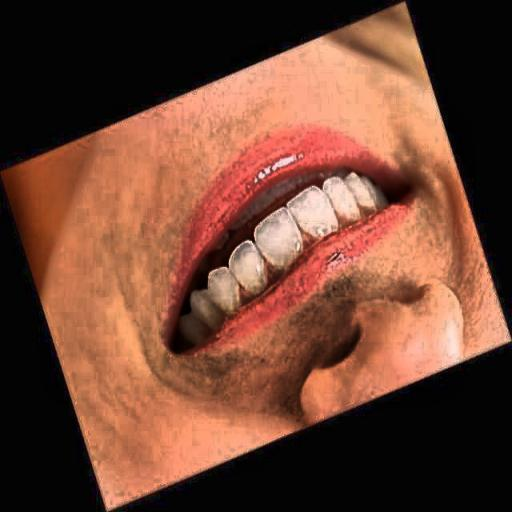Healthy: (128, 159, 426, 350)
